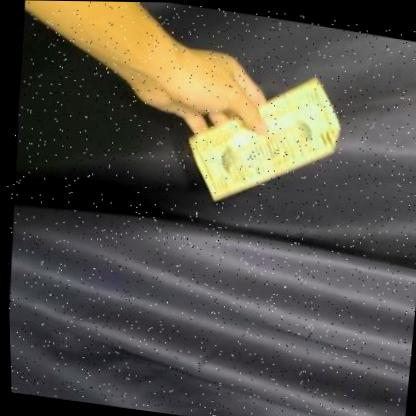dollar_back: (170, 52, 350, 219)
